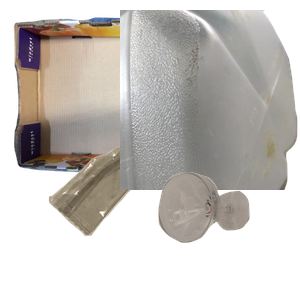cardboard: (11, 13, 251, 182)
glass: (156, 170, 300, 300)
plastic: (120, 10, 300, 190)
trash: (46, 144, 188, 300)
